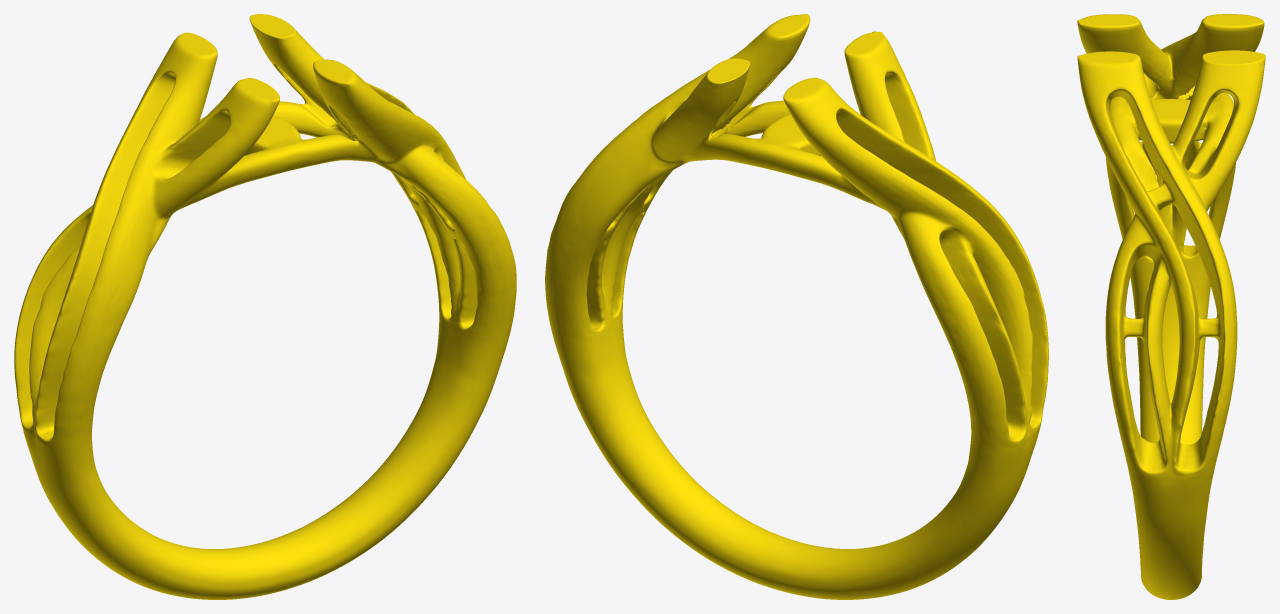
File: Shank_Twist_Channel_B_No, Hidden Halo_Band.glb
3 renders of one model, left to right at view 1: azimuth 30°, elevation 25°; view 2: azimuth 150°, elevation 25°; view 3: azimuth 270°, elevation 25°, orthographic.
Bounding box in the file's own units: 0.0213 × 0.0233 × 0.00744.
